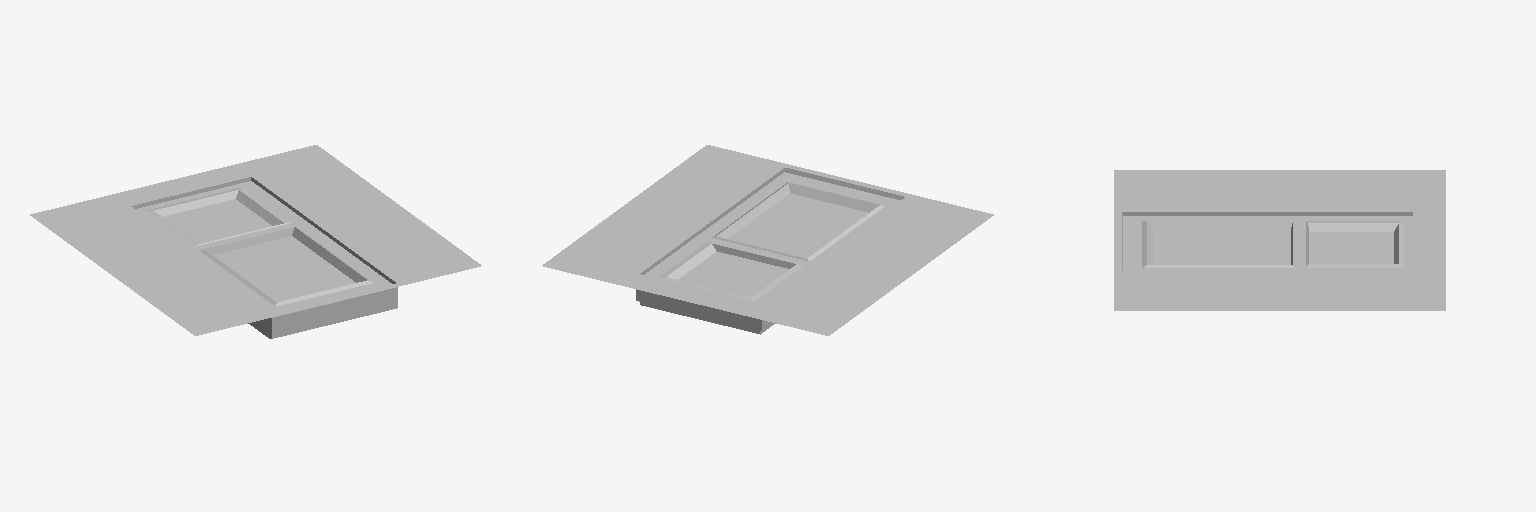
Rendered from door4.obj.
3 renders of one model, left to right at view 1: azimuth 30°, elevation 25°; view 2: azimuth 150°, elevation 25°; view 3: azimuth 270°, elevation 25°, orthographic.
Visible parts, largest first — view 1: door5:pPlane5, door5:pCube7; view 2: door5:pPlane5, door5:pCube7; view 3: door5:pPlane5, door5:pCube7.
Boxes of the visible parts, box(x1,y1,x2,y2) form: door5:pPlane5: box(30, 145, 481, 338); door5:pCube7: box(135, 181, 397, 338); door5:pPlane5: box(542, 145, 993, 335); door5:pCube7: box(636, 172, 900, 330); door5:pPlane5: box(1114, 170, 1445, 310); door5:pCube7: box(1123, 216, 1412, 270).
Size of the model in its own units: 1 by 0.1035 by 1.